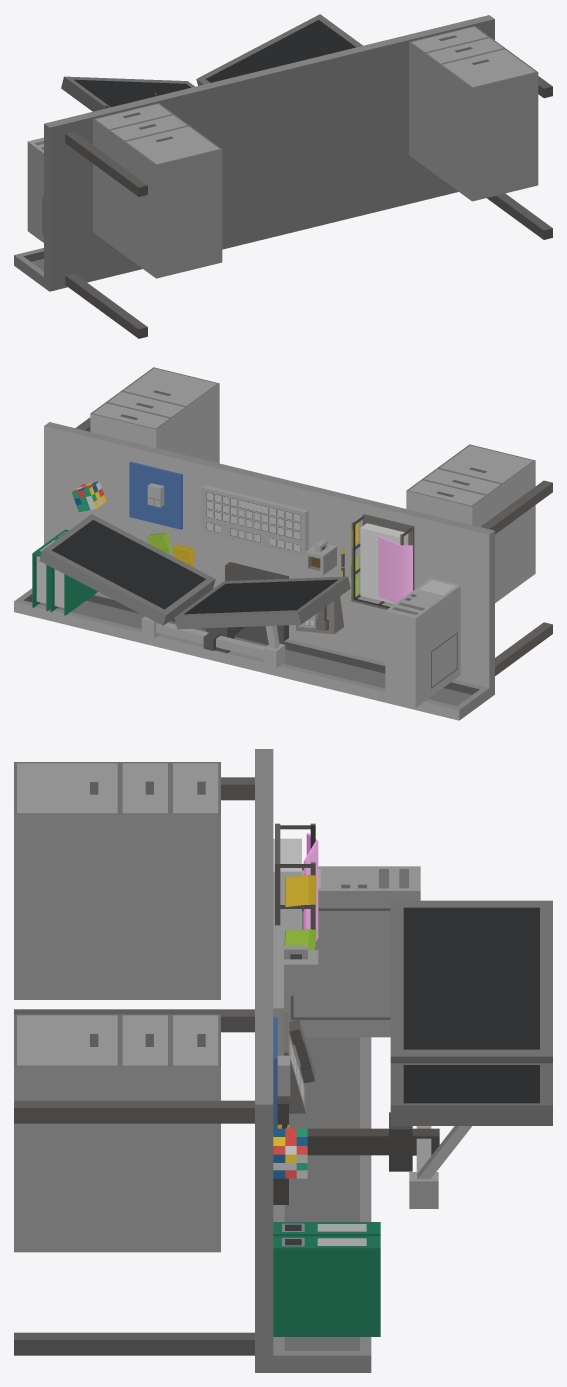
The model's file is DeskPreset2.glb.
3 renders of one model, top to bottom at view 1: azimuth 30°, elevation 25°; view 2: azimuth 150°, elevation 25°; view 3: azimuth 270°, elevation 25°, orthographic. The views are drawn at different scales.
Visible parts, largest first — view 1: SO_DeskPreset_02; view 2: SO_DeskPreset_02; view 3: SO_DeskPreset_02.
Part boxes in pixels (box(x1,y1,x2,y2)): SO_DeskPreset_02: box(14, 14, 552, 338); SO_DeskPreset_02: box(14, 367, 552, 720); SO_DeskPreset_02: box(14, 749, 552, 1372).
Bounding box in the file's own units: 5.11 × 1.89 × 3.27.
Materials: 1 (1 with a texture image).
